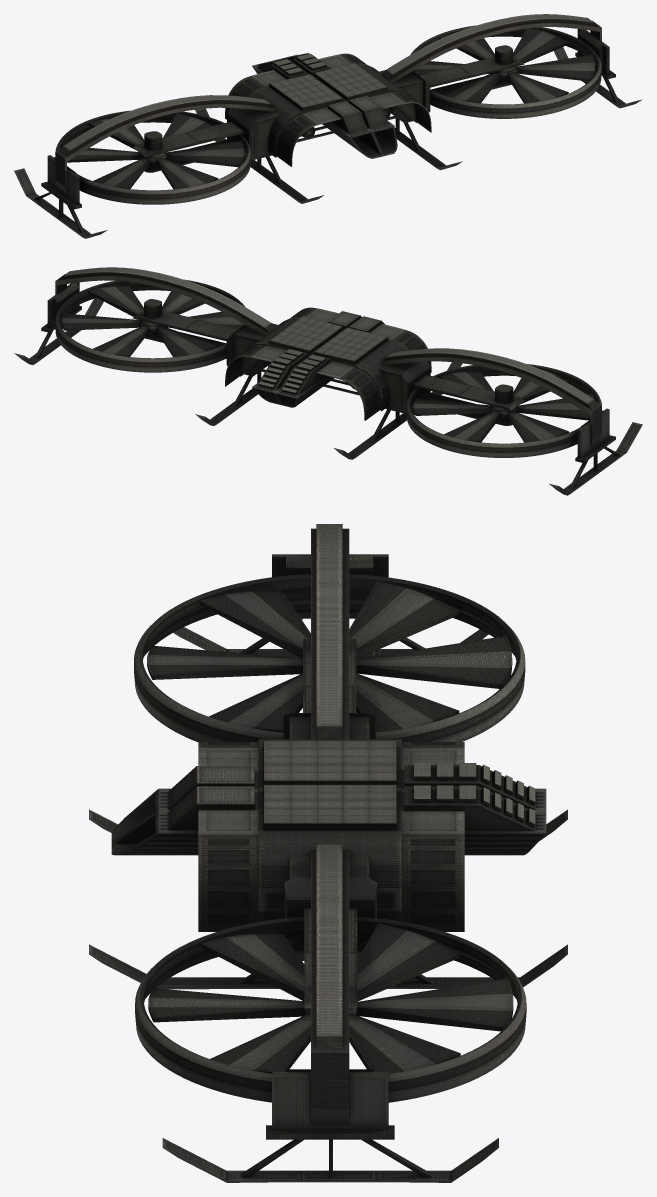
The model's file is drone_design.glb.
3 renders of one model, top to bottom at view 1: azimuth 30°, elevation 25°; view 2: azimuth 150°, elevation 25°; view 3: azimuth 270°, elevation 25°, orthographic. The views are drawn at different scales.
Visible parts, largest first — view 1: helicopter_box; view 2: helicopter_box; view 3: helicopter_box.
Part boxes in pixels (bbox=[...]): helicopter_box: bbox=[14, 14, 641, 238]; helicopter_box: bbox=[14, 267, 642, 495]; helicopter_box: bbox=[89, 524, 567, 1182].
Size of what is drawn, in the model's own units: 0.772 by 0.1219 by 0.2938.
1 material, 1 textured.
